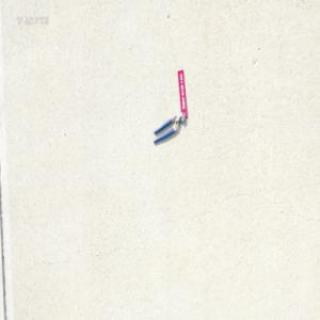LuggageTagtrack_idkeyframe: (176, 67, 187, 116)
Pliertrack_idkeyframe: (152, 110, 184, 144)
